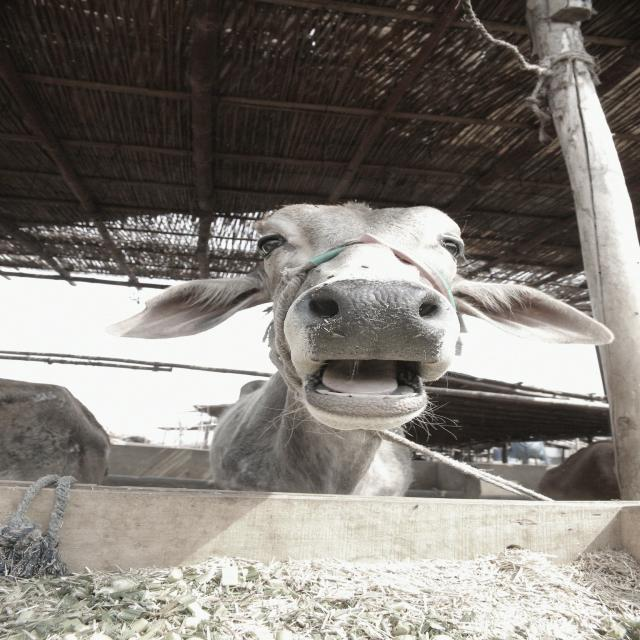muzzles: (300, 276, 451, 372)
